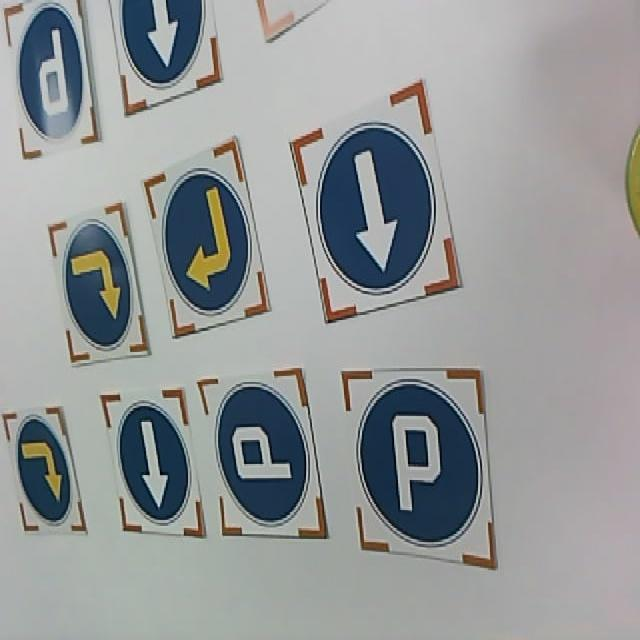parking: (338, 370, 497, 572), (199, 371, 331, 538), (3, 0, 102, 156)
straight: (286, 90, 464, 322), (99, 388, 206, 540), (110, 0, 227, 121)
turn: (141, 137, 273, 341), (46, 202, 152, 366), (4, 407, 83, 534)
